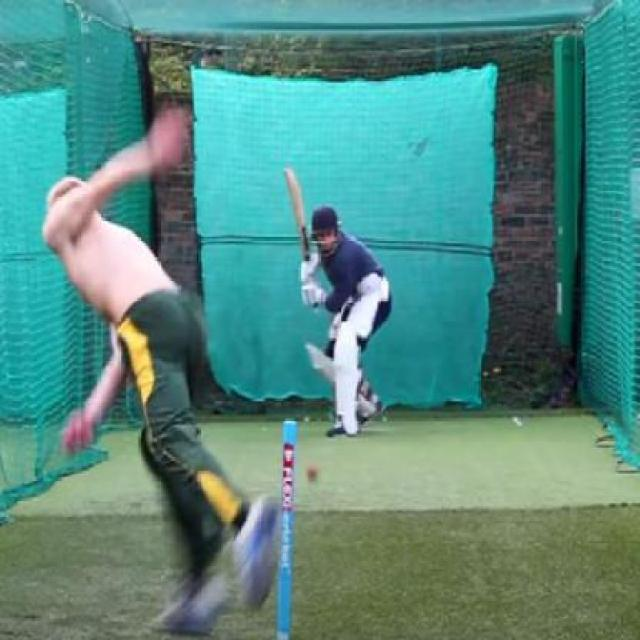ball: (303, 456, 325, 486)
